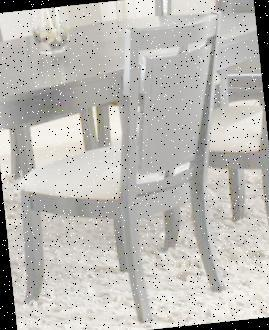Silla: (0, 10, 250, 329)
